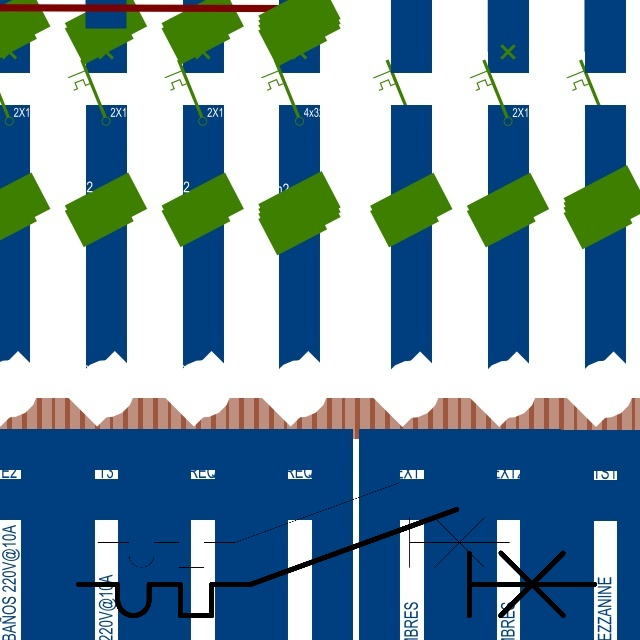interruptor_termomagnetico: (65, 496, 608, 629), (87, 472, 520, 578)
